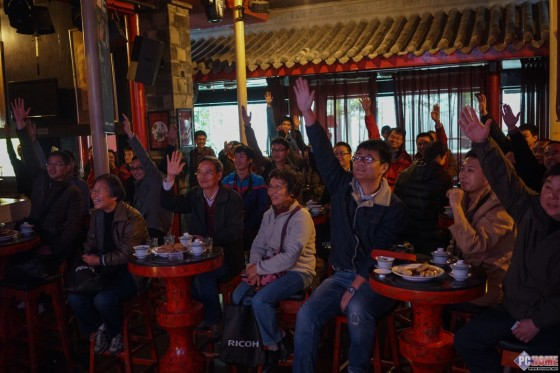handsup: (283, 73, 410, 368), (5, 92, 92, 335), (157, 146, 249, 343), (115, 110, 172, 272)
